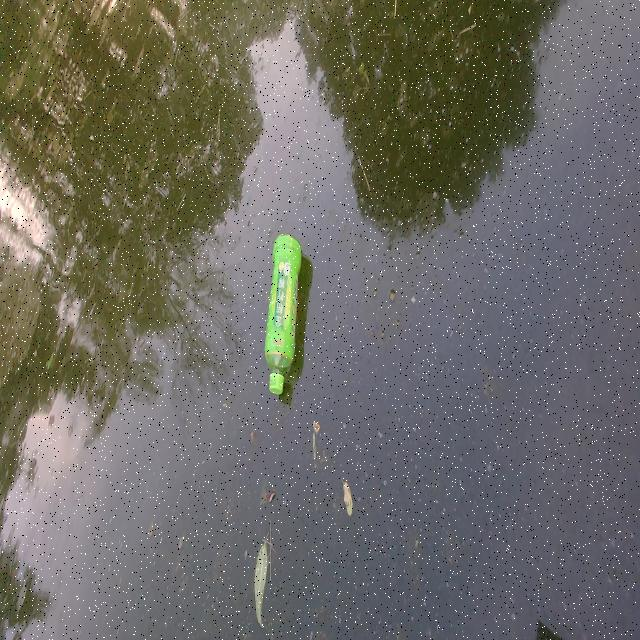Bottle: (261, 229, 304, 402)
